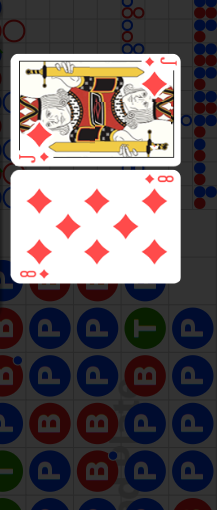8D: (143, 174, 175, 185)
9D: (144, 55, 178, 67)
